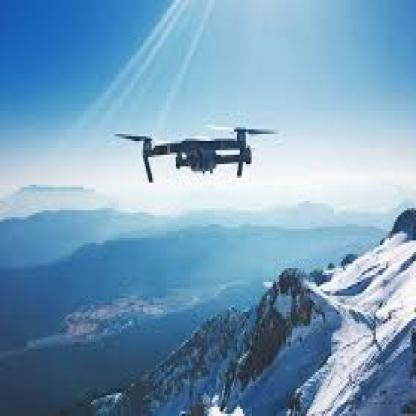UAS: (113, 125, 280, 185)
